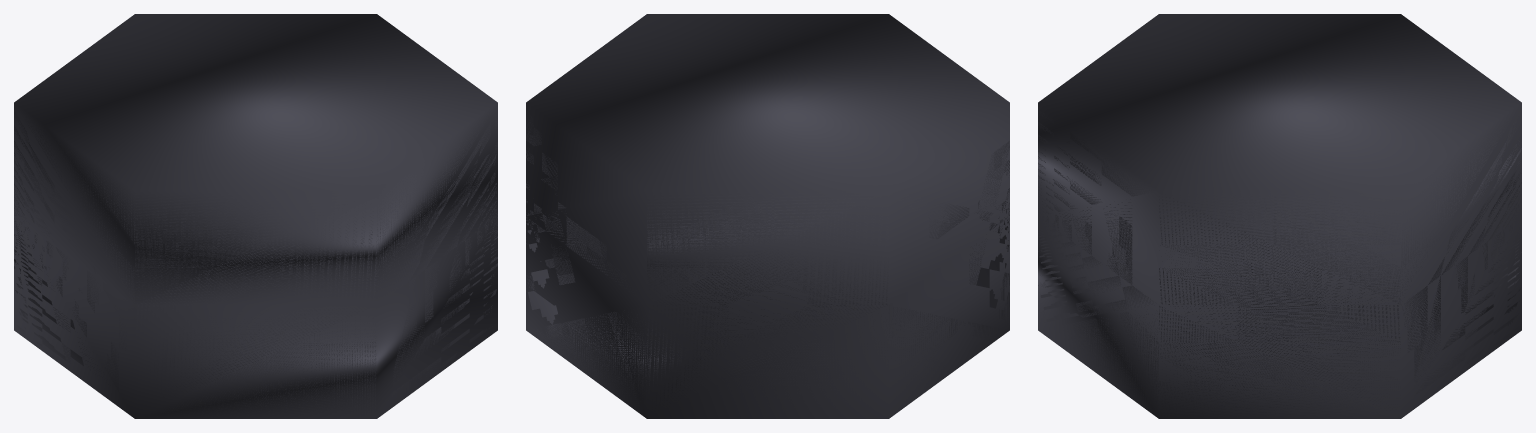
The model's file is volcano.glb.
3 renders of one model, left to right at view 1: azimuth 30°, elevation 25°; view 2: azimuth 150°, elevation 25°; view 3: azimuth 270°, elevation 25°, orthographic.
Parts seen in each view (by area): view 1: grass; view 2: grass; view 3: grass.
Boxes of the visible parts, x1,y1,x2,y2 form: grass: (14, 14, 497, 418); grass: (526, 14, 1009, 418); grass: (1038, 14, 1521, 418).
Bounding box in the file's own units: 1 × 0.6 × 1.15.
1 material, 1 textured.
